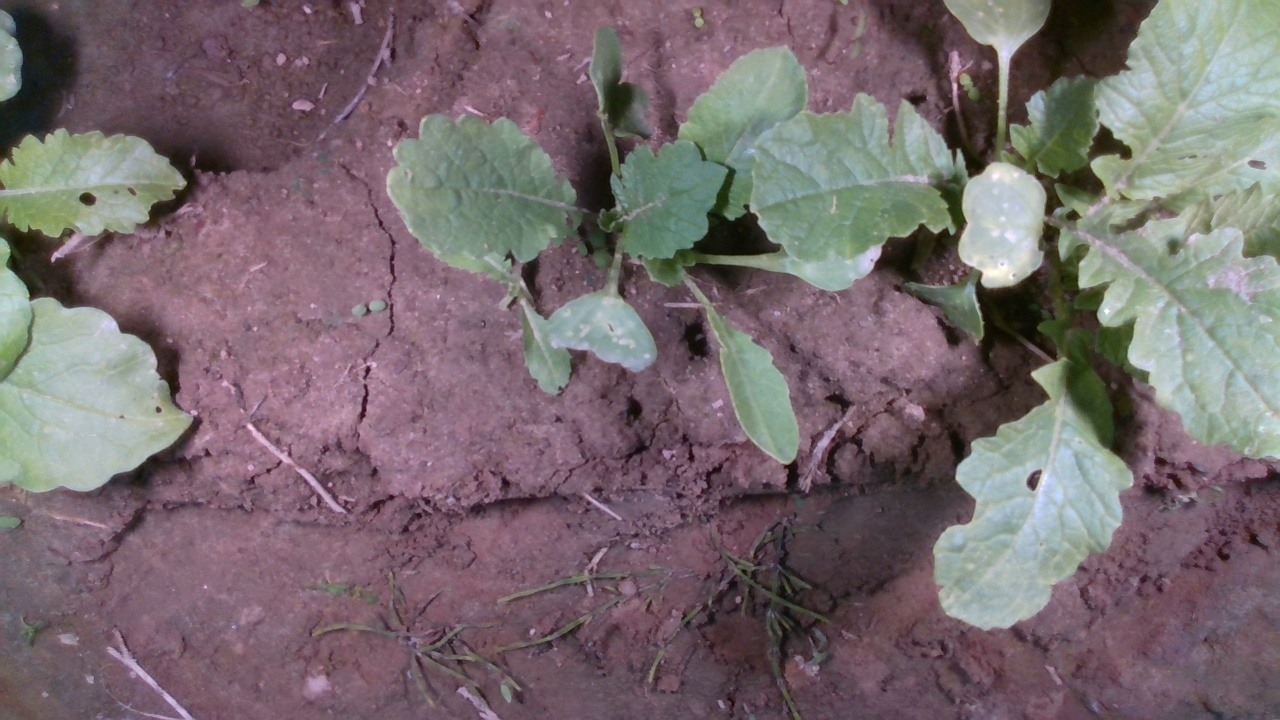weed: (350, 299, 388, 319), (959, 71, 981, 104), (690, 5, 705, 29)
